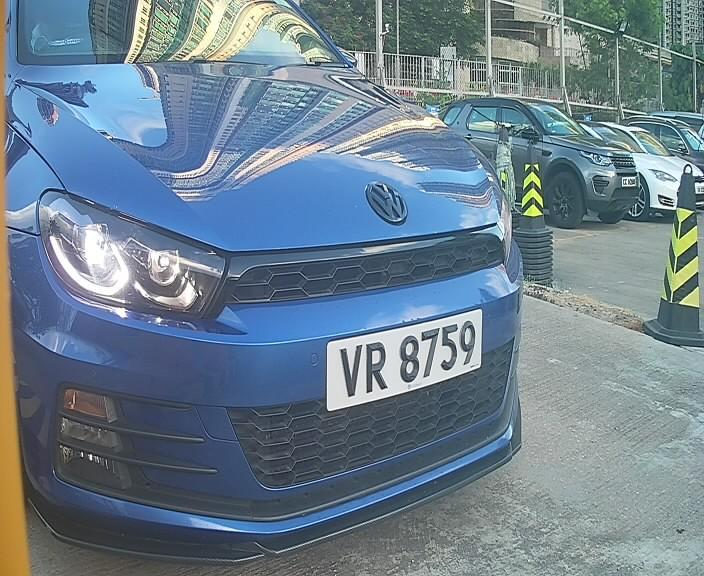License Plate: (321, 301, 488, 412)
